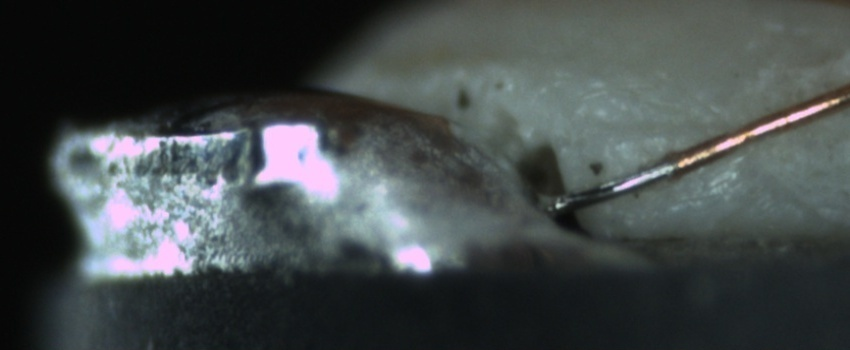DL: (595, 97, 734, 164)
TS: (551, 162, 675, 215)
